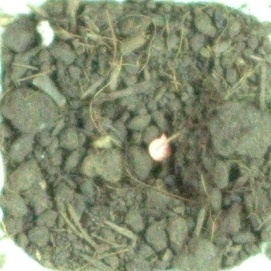pepper seed: (56, 51, 234, 214)
